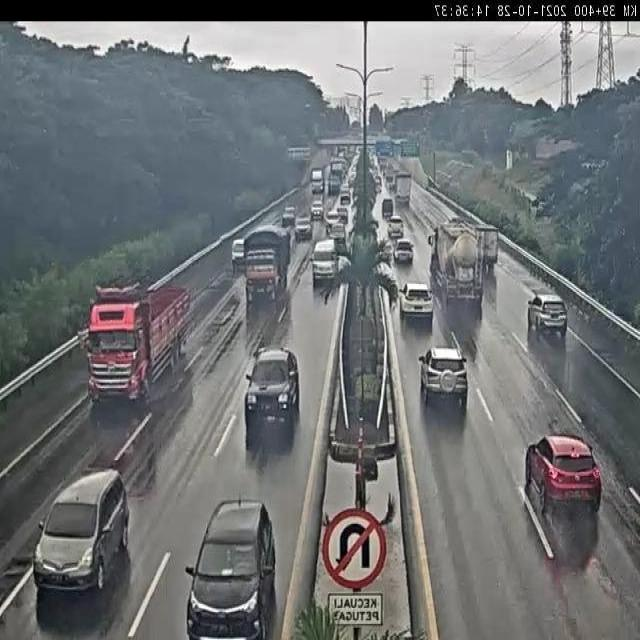Car: (184, 497, 277, 637), (34, 468, 130, 594), (525, 434, 602, 518), (242, 346, 301, 430), (417, 347, 471, 408), (528, 291, 568, 339), (398, 281, 433, 325), (328, 221, 348, 248), (394, 239, 414, 265), (295, 214, 312, 241), (387, 216, 404, 241), (325, 209, 341, 232), (282, 206, 296, 228), (310, 200, 324, 220), (335, 205, 349, 224), (382, 197, 394, 219), (340, 191, 351, 206)
Truck: (83, 276, 191, 406), (428, 218, 489, 325), (242, 226, 290, 302), (475, 225, 499, 274), (395, 172, 412, 206), (231, 239, 246, 275), (328, 169, 343, 197), (330, 159, 346, 182), (310, 168, 324, 194)
Van: (311, 238, 339, 287)
